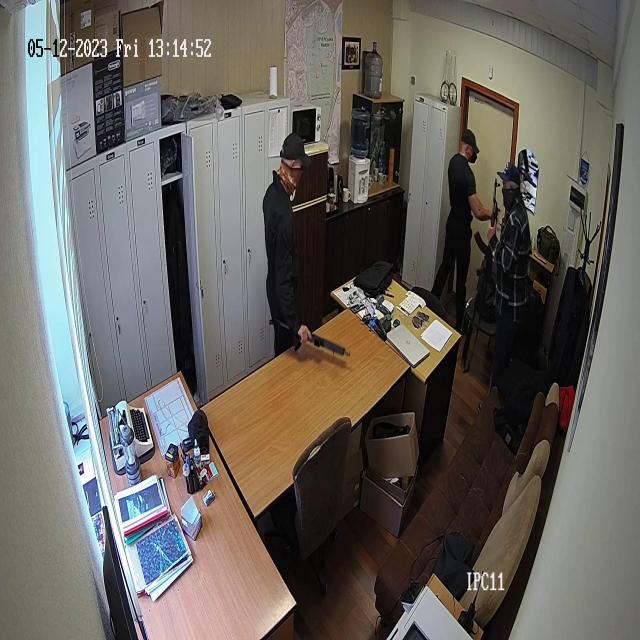gun: (258, 116, 353, 382), (476, 169, 547, 336), (444, 128, 477, 292), (270, 316, 351, 360), (474, 180, 501, 298)
